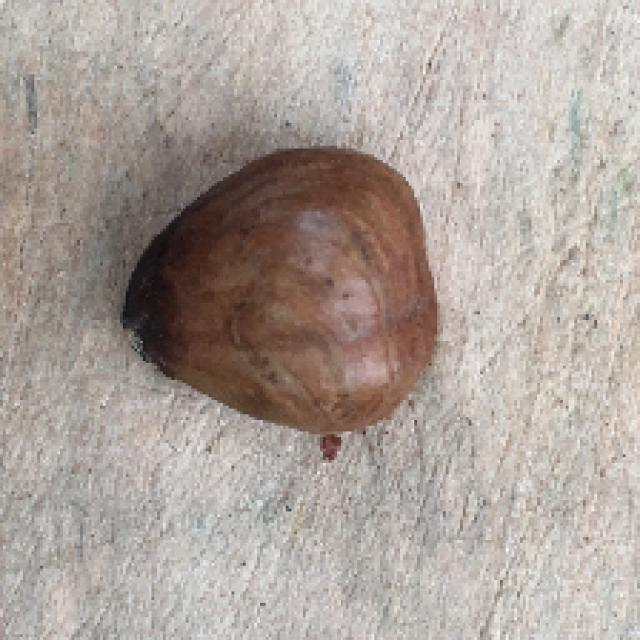hazelnut: (119, 136, 452, 465)
